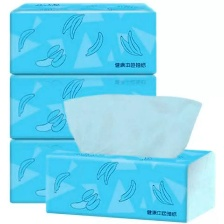tissue: (39, 86, 223, 223), (2, 0, 162, 79), (2, 67, 162, 142), (2, 134, 162, 207)
